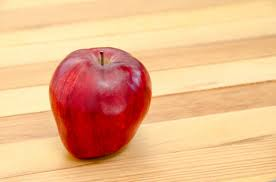apple: (50, 47, 151, 163)
